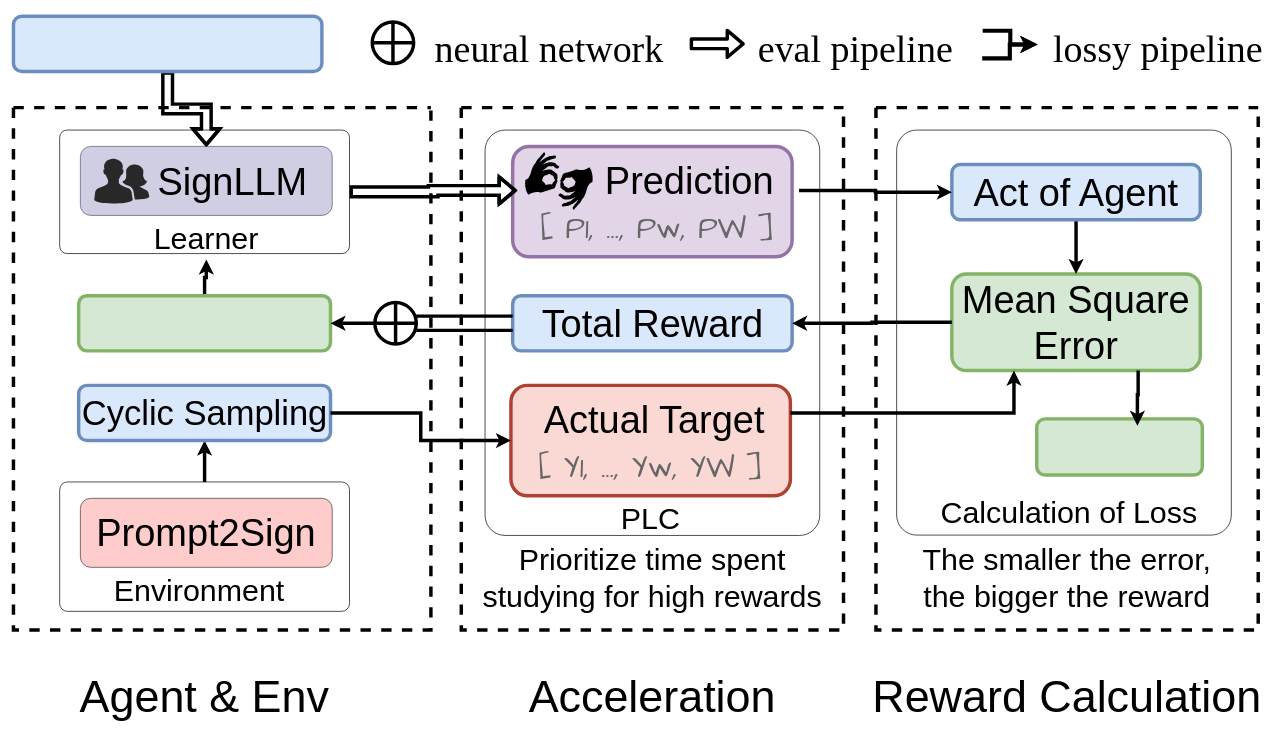
Image size: 1275x734. Some labels were removed from this diagram. Each missing label, with the centre of its shape:
"PLC Selection" belongs at pixel 204 323.
"RL Loss" belongs at pixel 1119 446.
"User Input" belongs at pixel 167 43.
